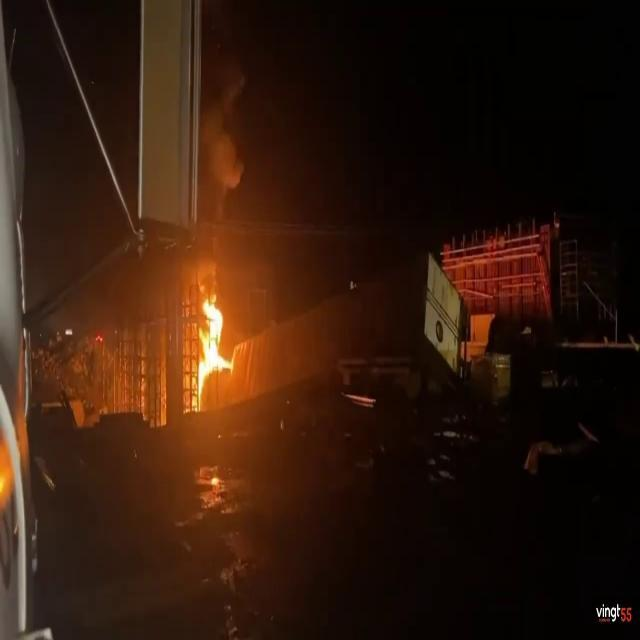Fire: (188, 280, 236, 406)
Smoke: (193, 44, 270, 284)
